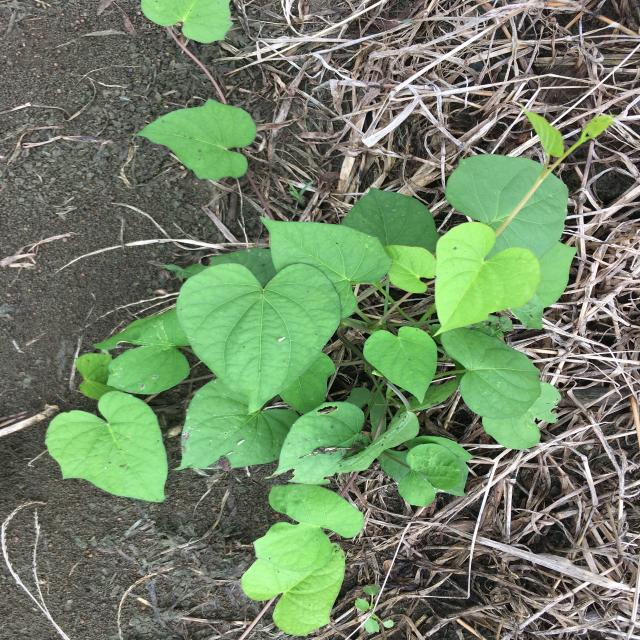MorningGlory: (44, 0, 616, 637)
